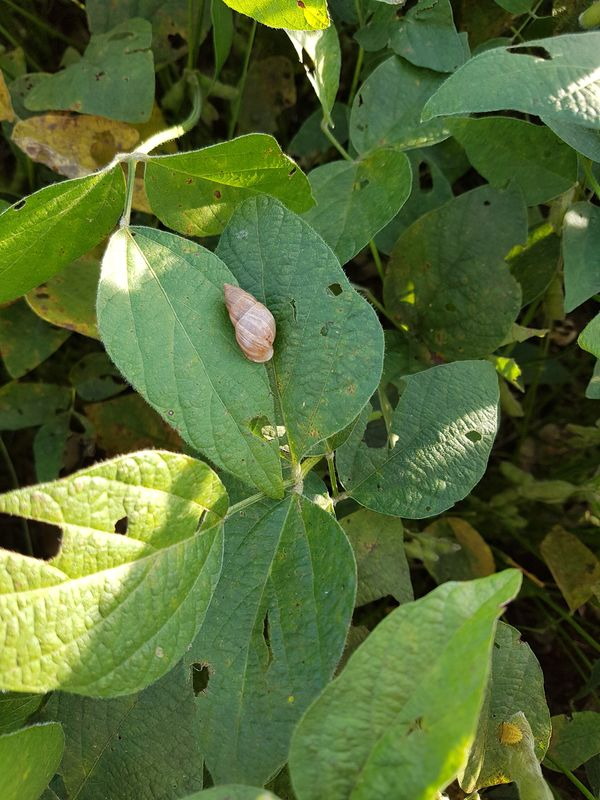Euschistus_heros_ninfa: (489, 715, 530, 751)
Gastropoda: (209, 277, 297, 373)
